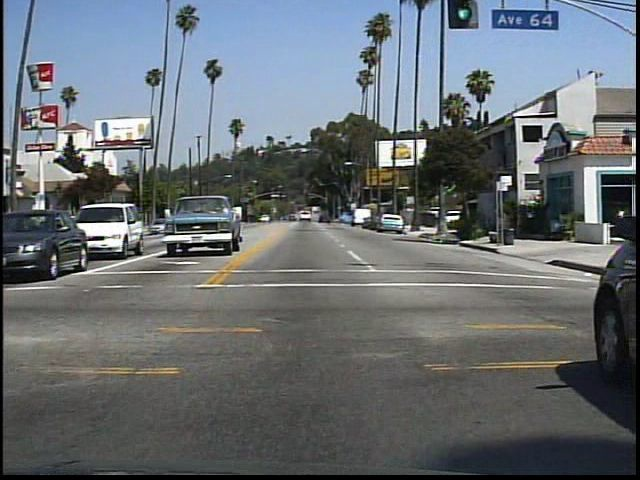person: (469, 199, 492, 244)
